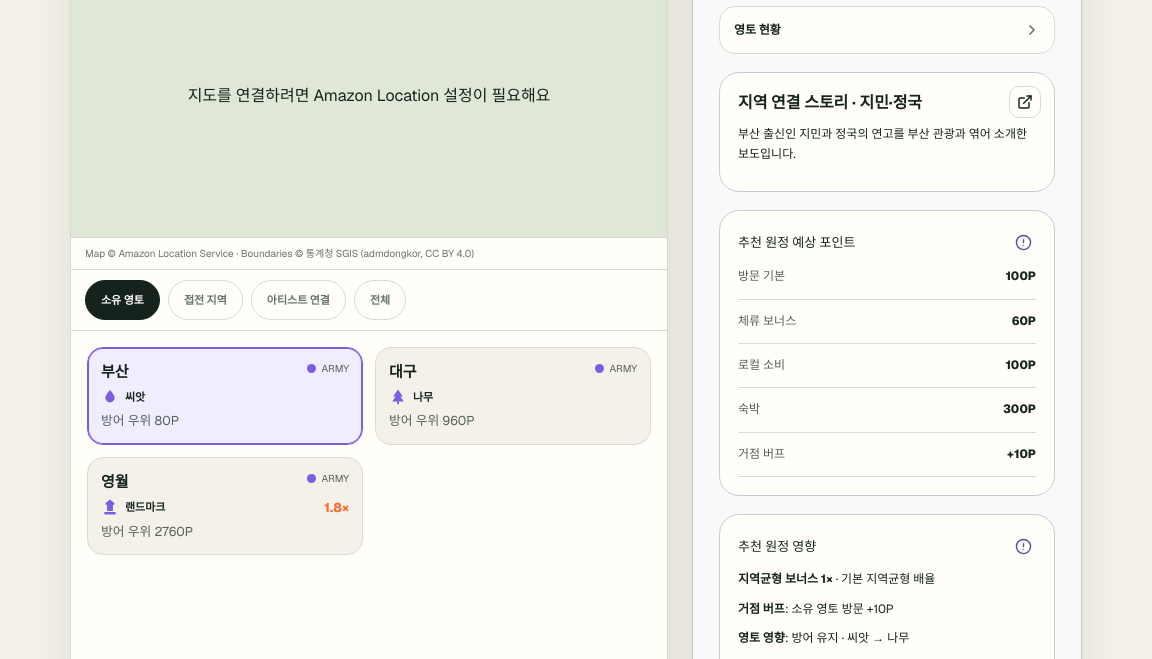
Test: changes results when the user filters to contested territory
The width and height of the screenshot is (1152, 659).
(page scrolled)
Click the button "접전 지역" at point(205, 300), box x1=168 y1=280 x2=243 y2=320
(page scrolled)
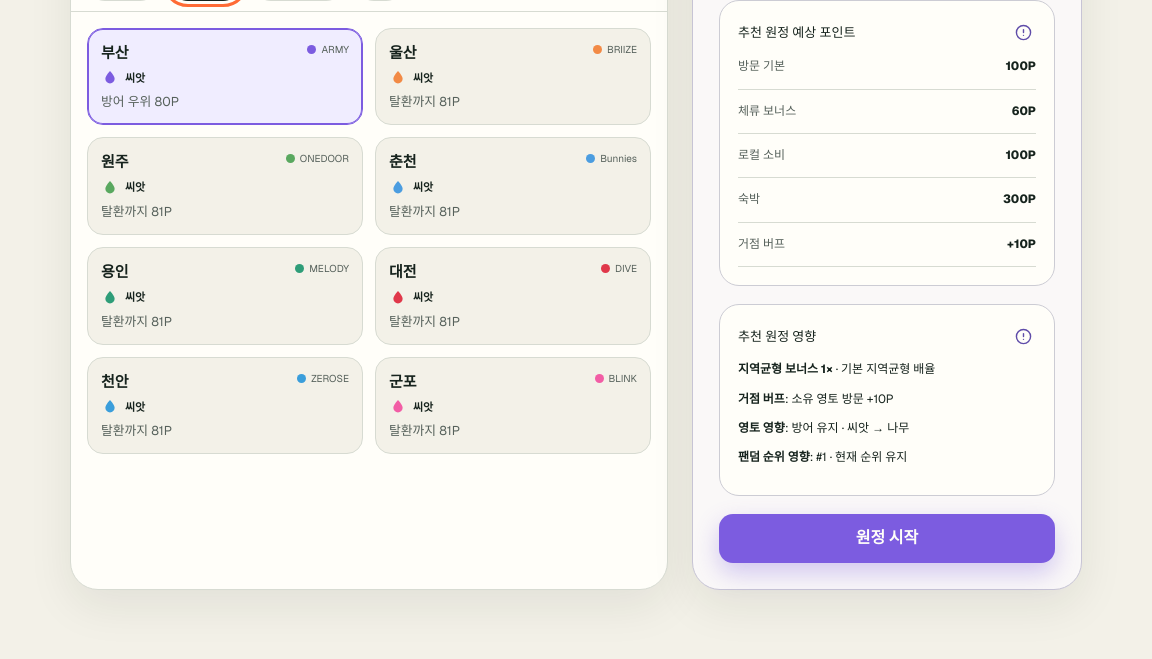
Check: the list named "지도와 같은 영토 목록" shows "탈환까지", box x1=375 y1=28 x2=651 y2=125
